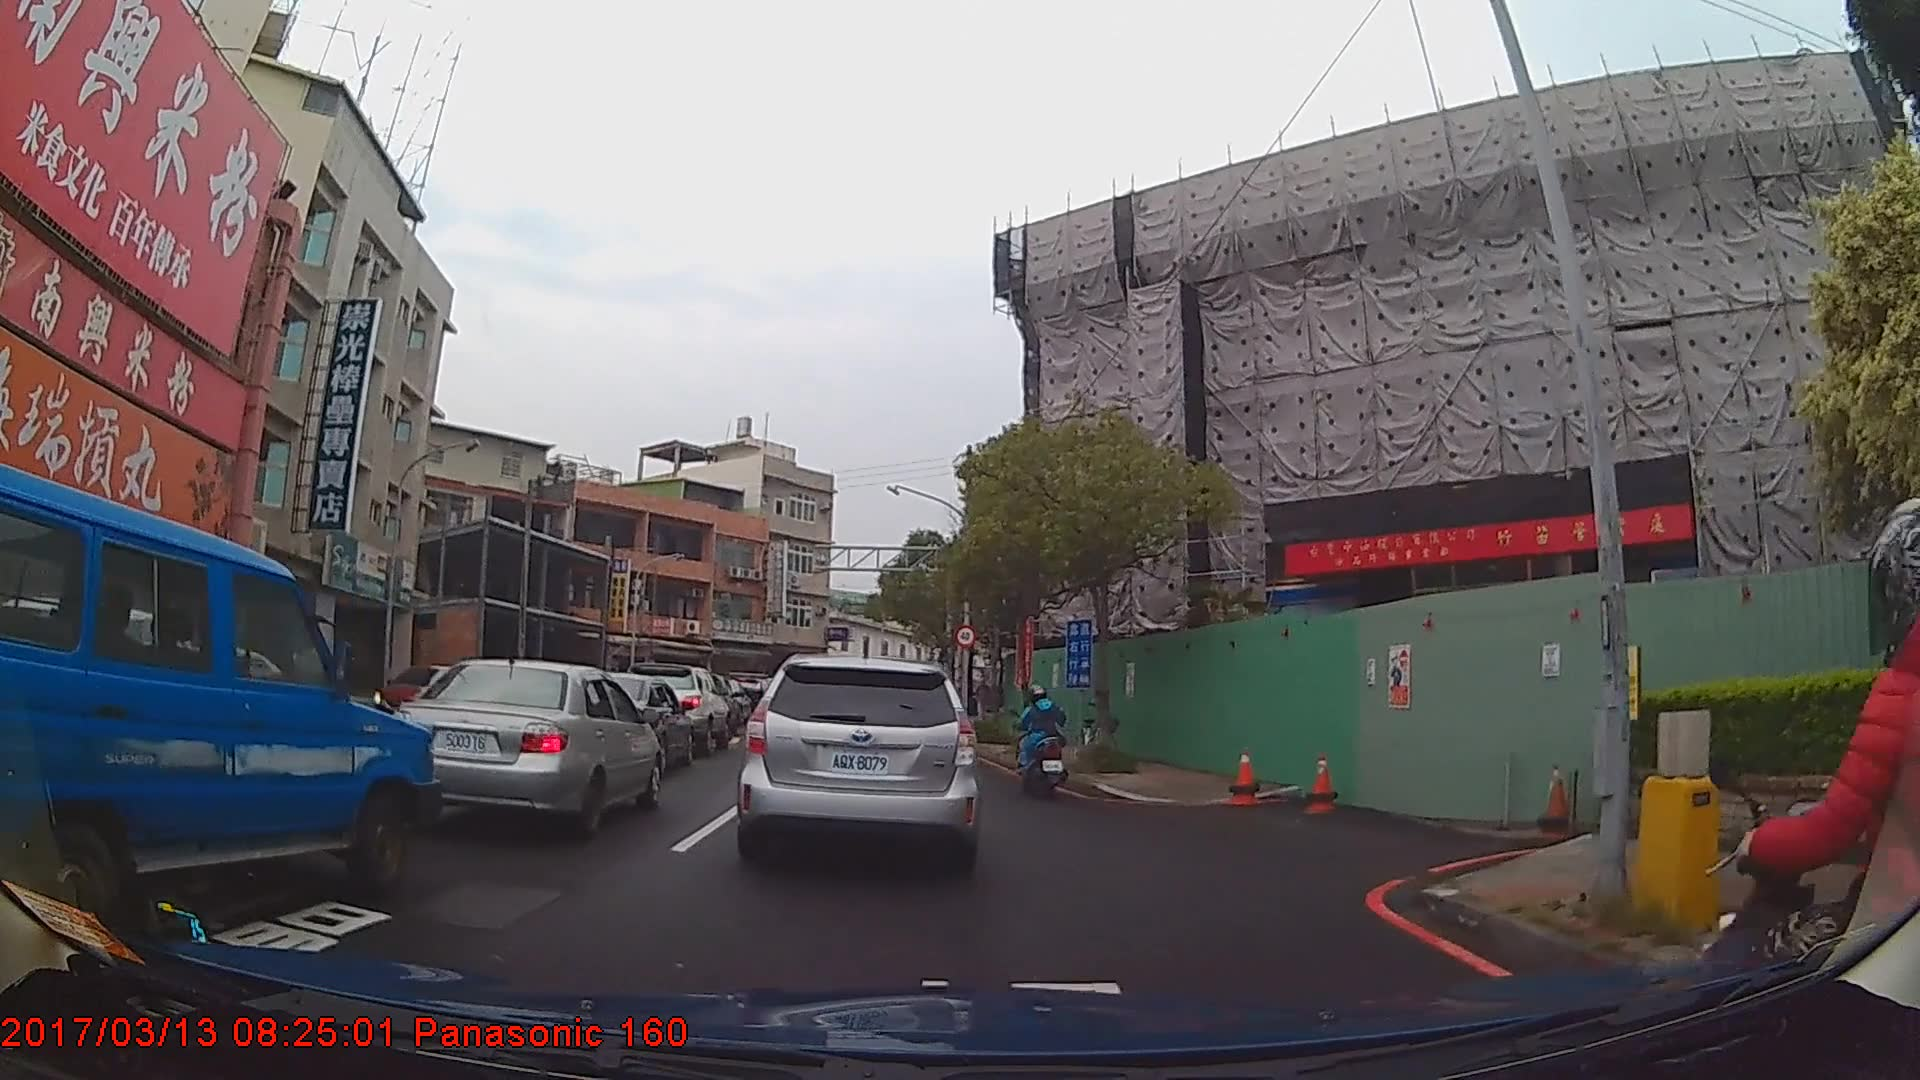rider: (1687, 495, 1920, 1080), (1016, 687, 1070, 799)
vehicle: (0, 460, 442, 943), (736, 651, 984, 865), (391, 658, 667, 839), (552, 668, 695, 769), (621, 659, 730, 754)
